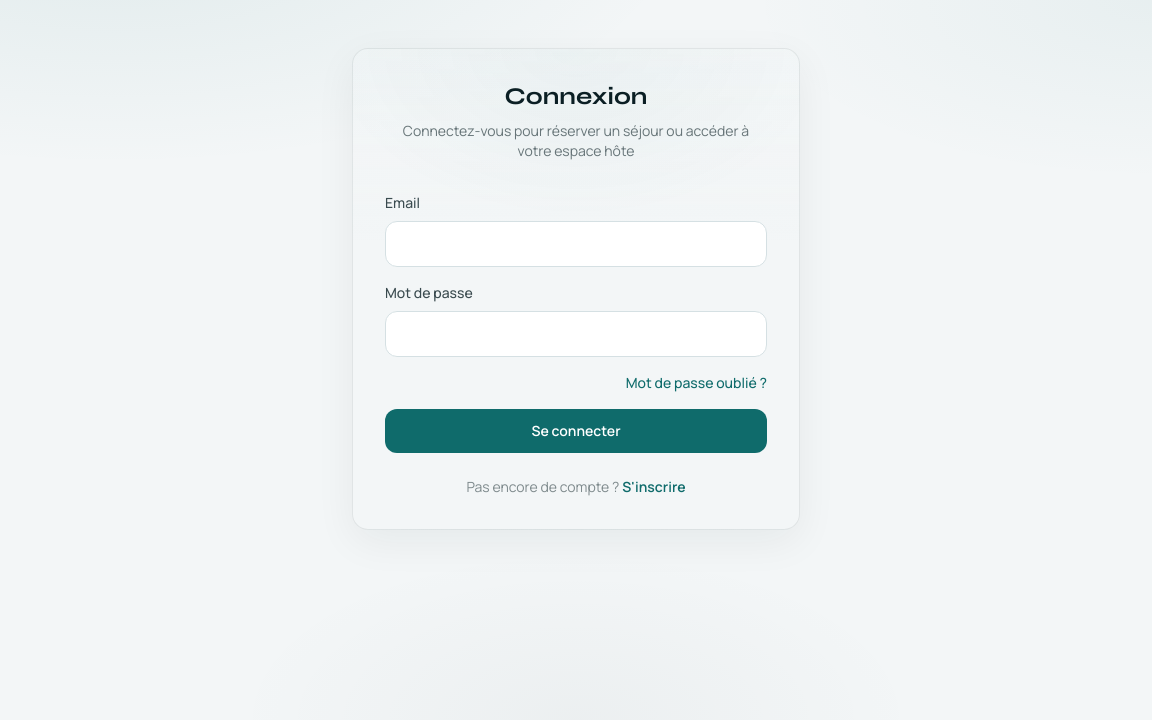
Scenario: LoginPage (integration) › affiche l’erreur API lorsque les identifiants sont invalides
In the field labelled "Email": (576, 244) [385,221,767,267], type "user@test.com"
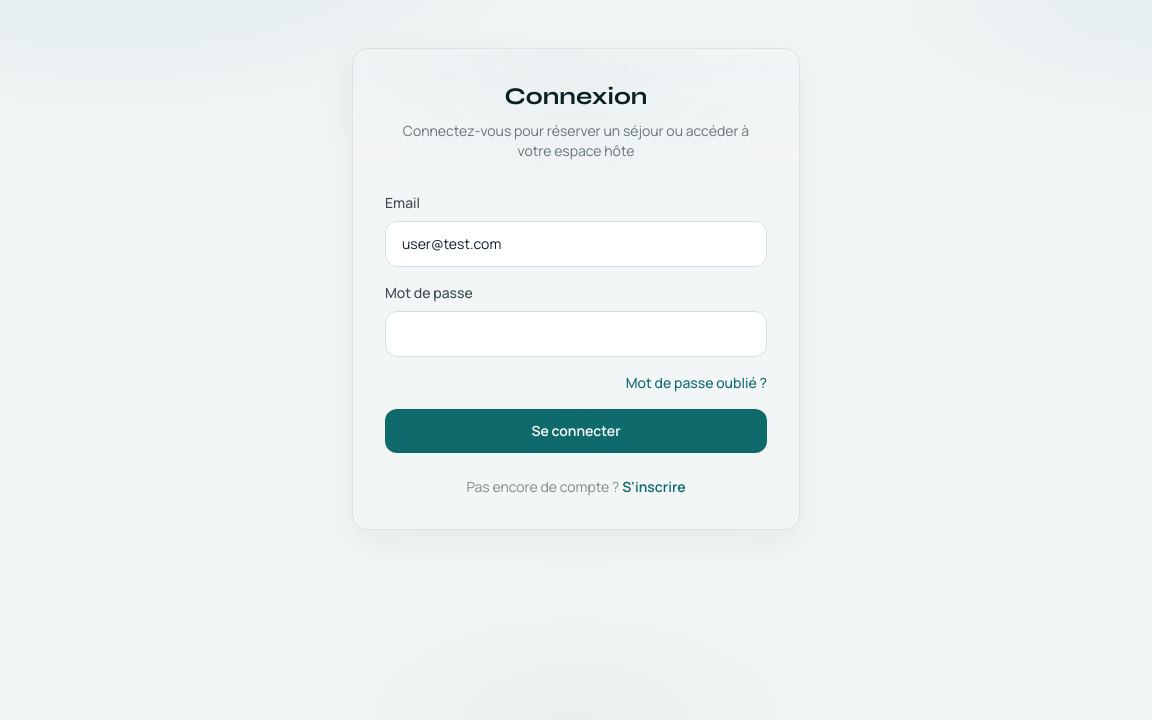
In the password field labelled "Mot de passe": (576, 334) [385,311,767,357], type "wrong"
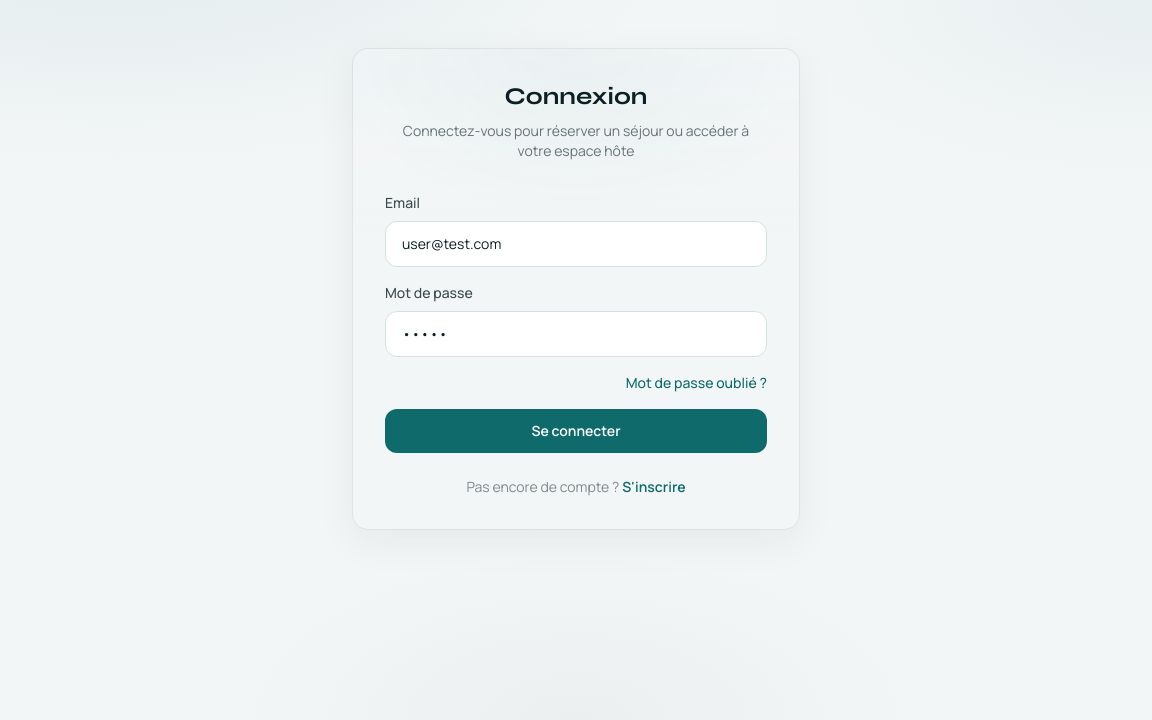
Click the button "Se connecter": (576, 431) [385,409,767,453]
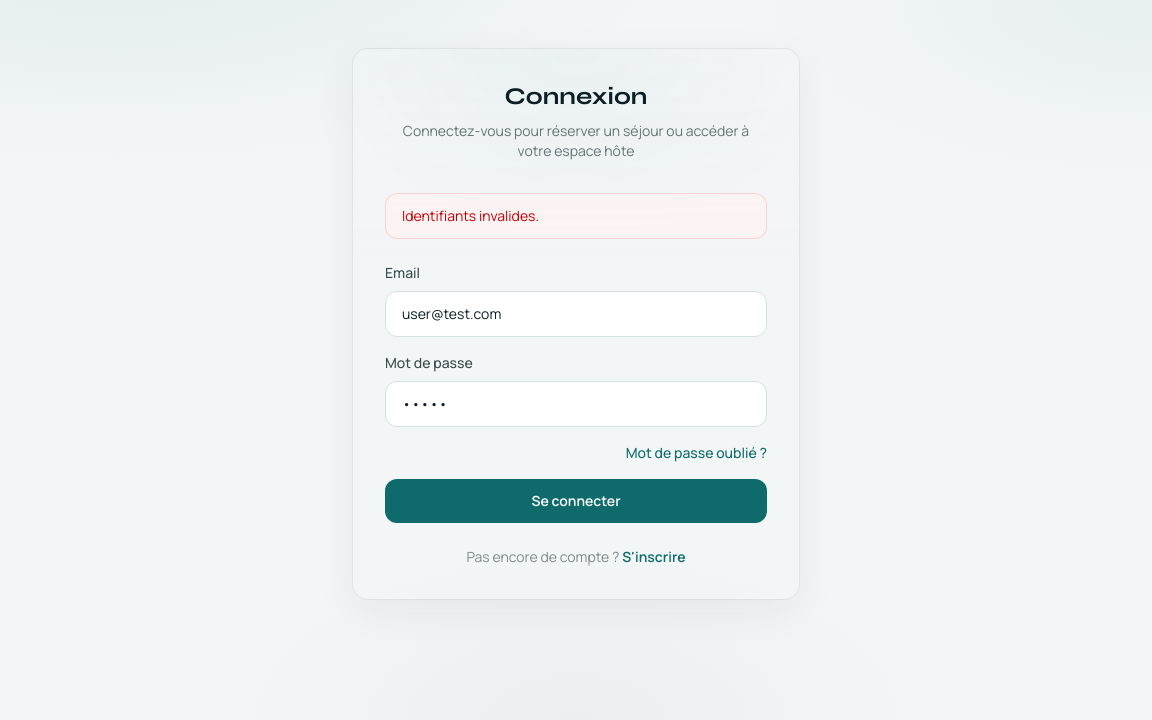
Check: the text "Identifiants invalides." is shown, box [385,193,767,239]
